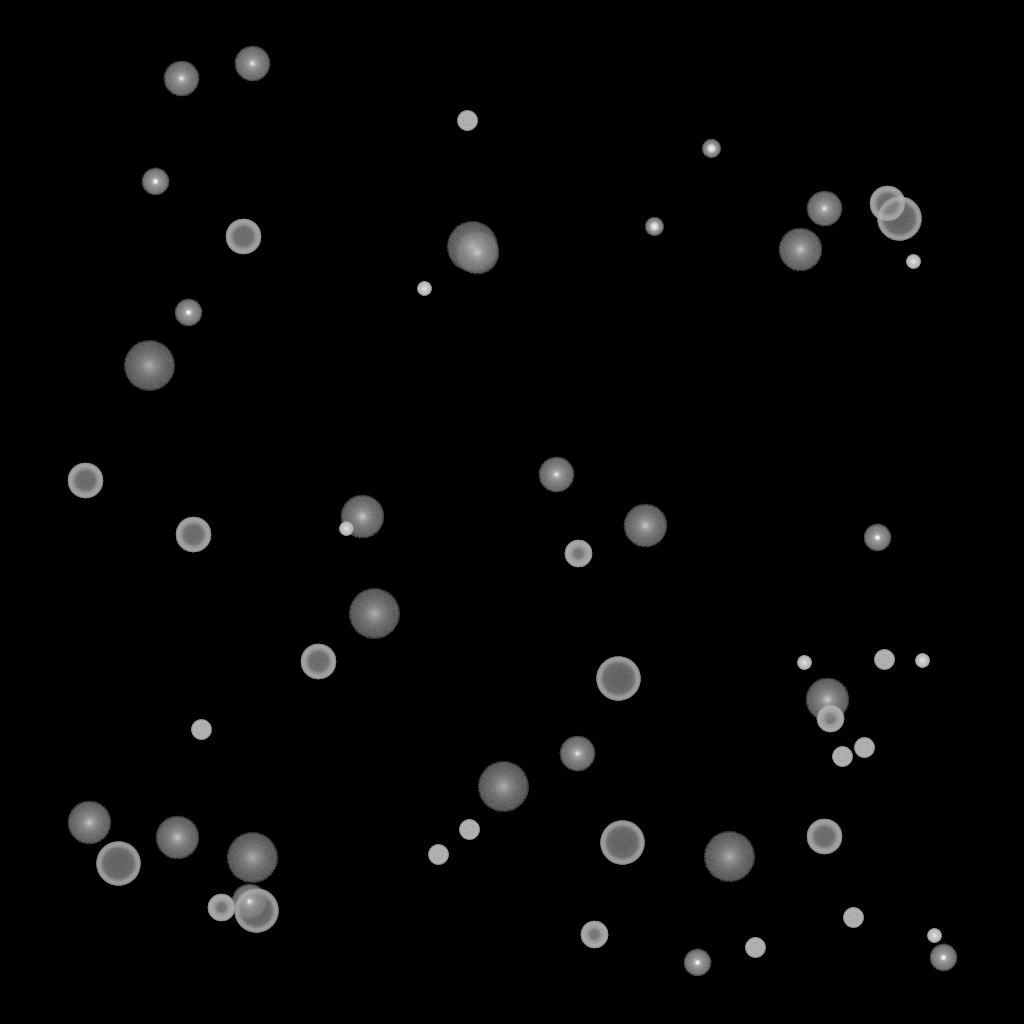depth:-10: (863, 524, 891, 552), (683, 949, 711, 977), (174, 299, 202, 327), (929, 944, 957, 972), (141, 168, 169, 196)
depth:-20: (702, 140, 720, 158), (645, 218, 663, 236)
depth:-30: (927, 929, 941, 943), (339, 522, 353, 536), (906, 255, 920, 269), (797, 656, 811, 670), (417, 282, 431, 296), (915, 654, 929, 668)
depth:-40: (457, 111, 477, 131), (745, 938, 765, 958), (191, 720, 211, 740), (854, 738, 874, 758), (843, 908, 863, 928), (459, 820, 479, 840), (874, 650, 894, 670), (428, 845, 448, 865), (832, 747, 852, 767)
depth:-50: (207, 894, 235, 922), (564, 540, 592, 568), (580, 921, 608, 949), (816, 705, 844, 733)
depth:-60: (806, 819, 842, 855), (175, 517, 211, 553), (67, 463, 103, 499), (300, 644, 336, 680), (869, 186, 905, 222), (225, 219, 261, 255)
depth:-70: (877, 197, 921, 241), (234, 889, 278, 933), (596, 657, 640, 701), (96, 842, 140, 886), (600, 821, 644, 865)
depth:0: (806, 191, 842, 227), (559, 736, 595, 772), (538, 457, 574, 493), (234, 46, 270, 82), (231, 884, 267, 920), (163, 61, 199, 97)
depth:10: (67, 801, 111, 845), (805, 678, 849, 722), (778, 228, 822, 272), (455, 231, 499, 275), (340, 495, 384, 539), (623, 504, 667, 548), (155, 816, 199, 860)
depth:20: (703, 832, 755, 882), (477, 762, 529, 812), (123, 341, 175, 391), (446, 222, 498, 272), (226, 833, 278, 883), (348, 589, 400, 639)
